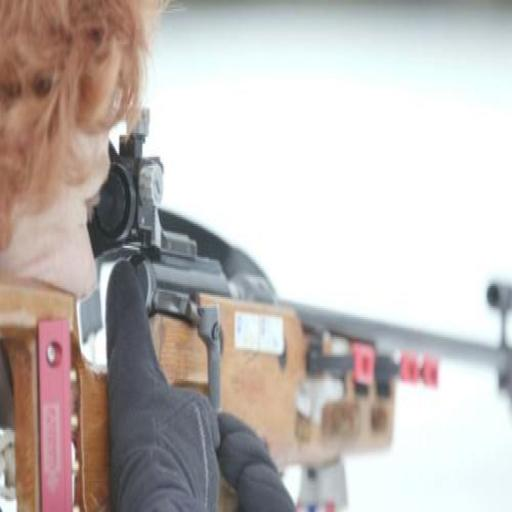shooting: (2, 22, 464, 494)
